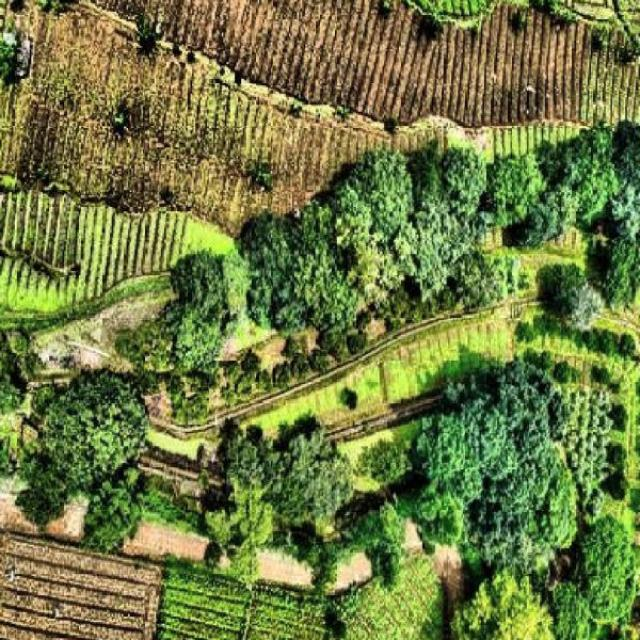Tree: (453, 347, 568, 464), (48, 368, 150, 496), (205, 476, 276, 586), (406, 200, 486, 294), (452, 570, 555, 640), (243, 204, 297, 332), (351, 139, 417, 242), (581, 517, 638, 623), (530, 138, 579, 243), (491, 144, 548, 231), (301, 258, 357, 346), (576, 117, 618, 228), (463, 253, 530, 322), (79, 484, 138, 558), (172, 246, 225, 324), (540, 462, 584, 552), (612, 110, 640, 249), (19, 464, 68, 542), (168, 304, 226, 369), (468, 508, 528, 570), (348, 245, 405, 309), (407, 416, 461, 483), (367, 505, 404, 600), (444, 143, 490, 213), (326, 223, 377, 286), (414, 484, 464, 548), (0, 329, 34, 417), (229, 431, 277, 493), (360, 439, 410, 496), (282, 436, 355, 472), (550, 577, 591, 640), (268, 481, 314, 533), (606, 237, 640, 307), (326, 178, 374, 227), (412, 144, 448, 208), (544, 256, 580, 314), (225, 240, 250, 322), (568, 280, 607, 332), (0, 31, 19, 83), (0, 435, 18, 483)
